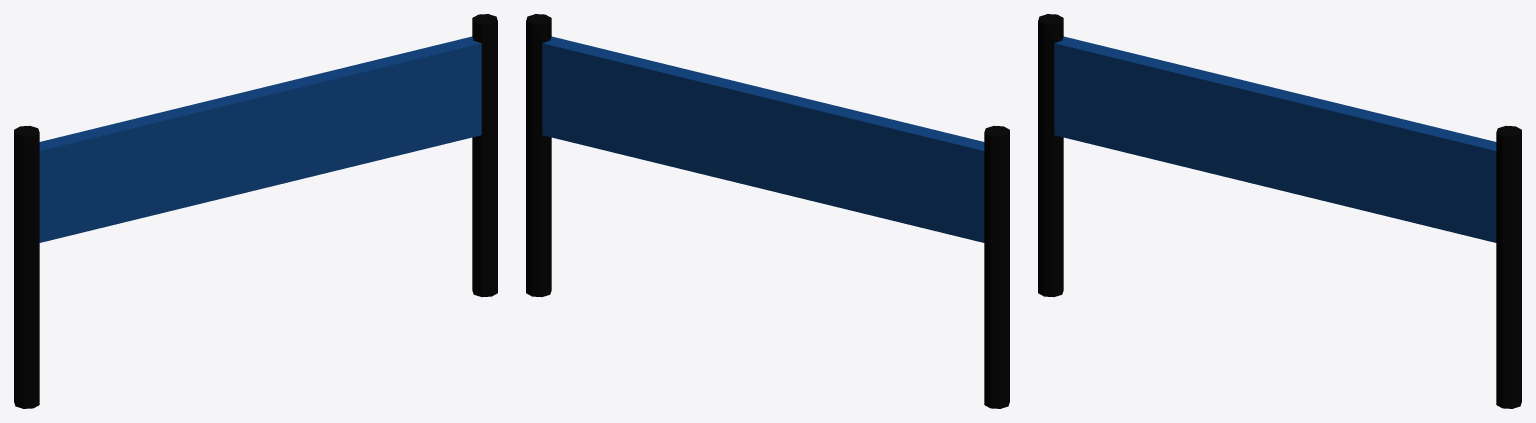
File: Checkpoint.fbx
3 renders of one model, left to right at view 1: azimuth 30°, elevation 25°; view 2: azimuth 150°, elevation 25°; view 3: azimuth 330°, elevation 25°, orthographic.
Visible parts, largest first — view 1: Checkpoint; view 2: Checkpoint; view 3: Checkpoint.
Part boxes in pixels (box(x1,y1,x2,y2)): Checkpoint: box(14, 14, 497, 408); Checkpoint: box(526, 14, 1009, 408); Checkpoint: box(1038, 14, 1521, 408).
Bounding box in the file's own units: 4200 × 2272 × 200.
